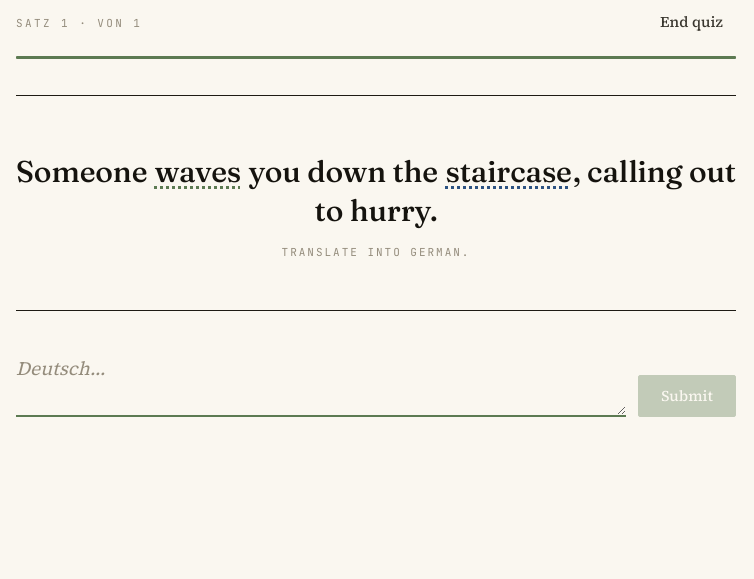
Test: SentenceRunner (T6 AI sentence translation) › on a wrong submit, shows the AI tip and a "direction" tag chip
This screenshot has width=754, height=579.
Type "Geh die Treppe herunter!" into the text box with placeholder "Deutsch…". click: (321, 382)
box: 16,347 -> 626,417
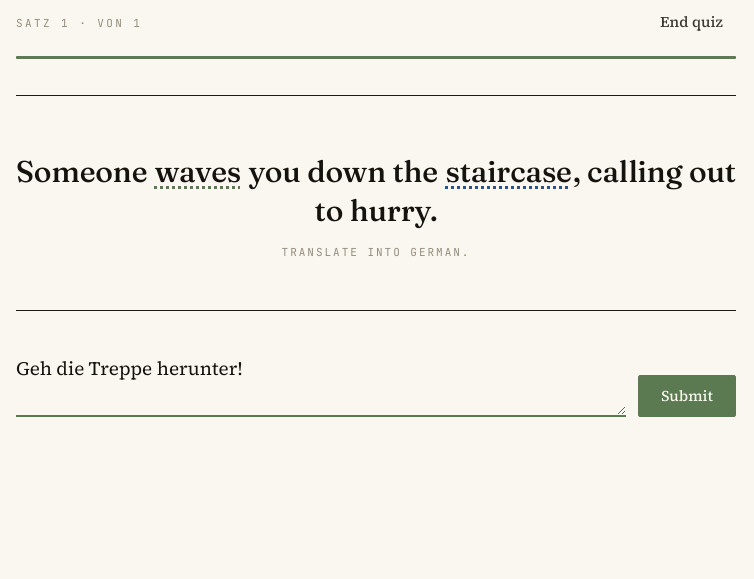
Submit the form, box 16,347 -> 736,417
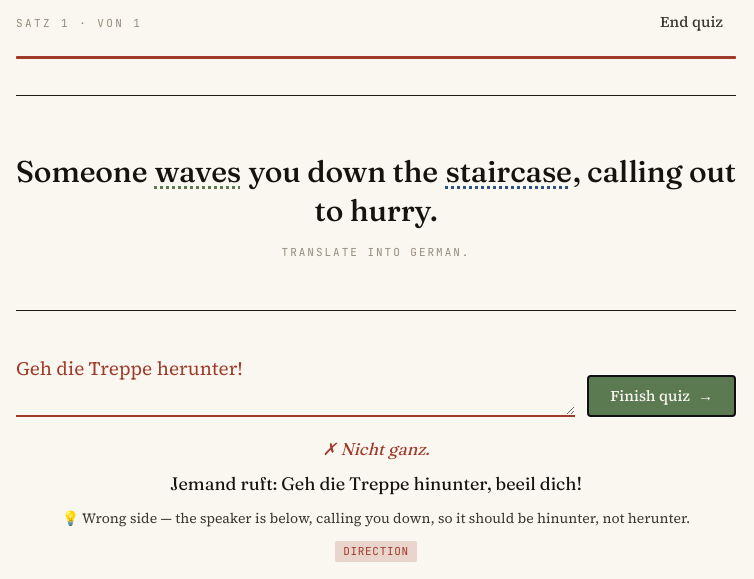
Check: the text "Wrong side" is shown, box 62,508 -> 690,528
